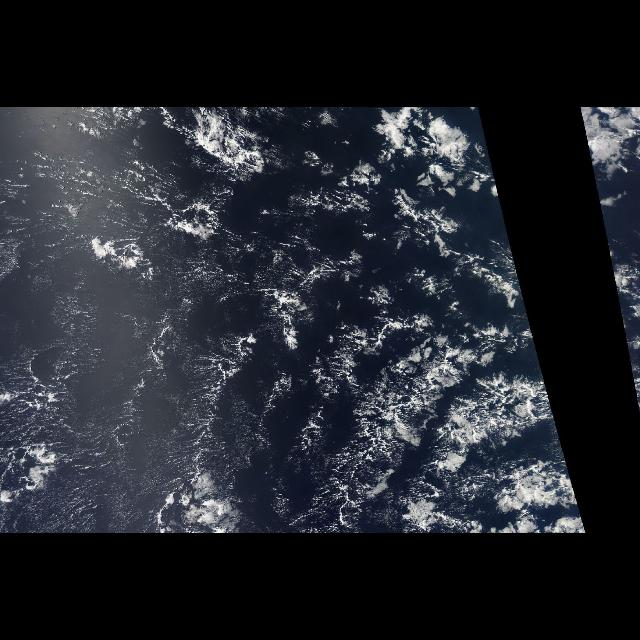Fish: (64, 165, 566, 533)
Sugar: (13, 268, 257, 530)
